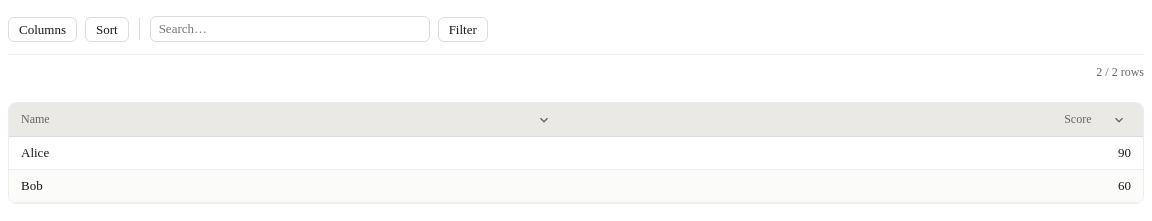
Test: DataTable — filter dropdown › dragging a slider thumb updates the plain min/max inputs and filters rows
Click the button "Filter": (463, 29) [438,16,488,42]
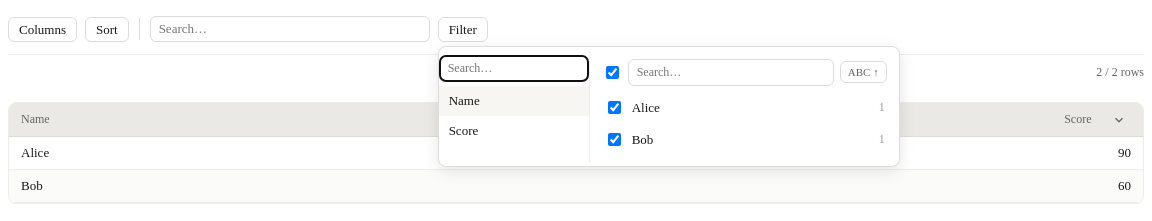
Click the 2nd button "Score": (514, 130) [439,116,589,146]
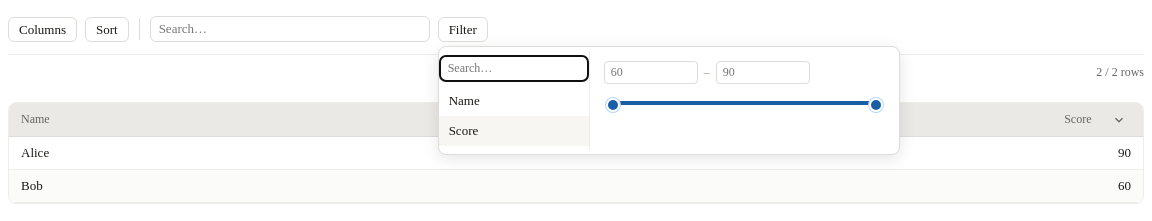
Set the slider named "Score Min" to "75": (744, 102) [606,92,883,114]
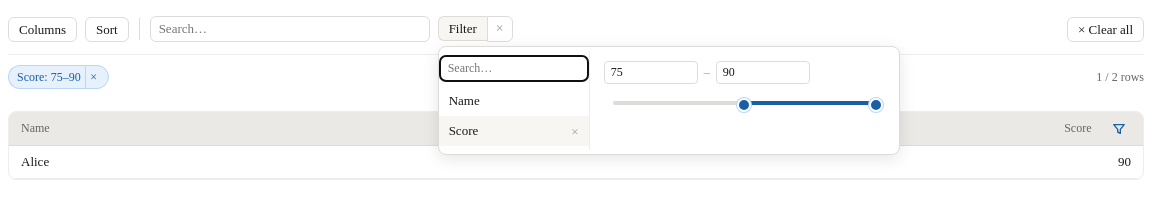
Check: the number field named " Min" holds "75", box [604,61,698,84]
